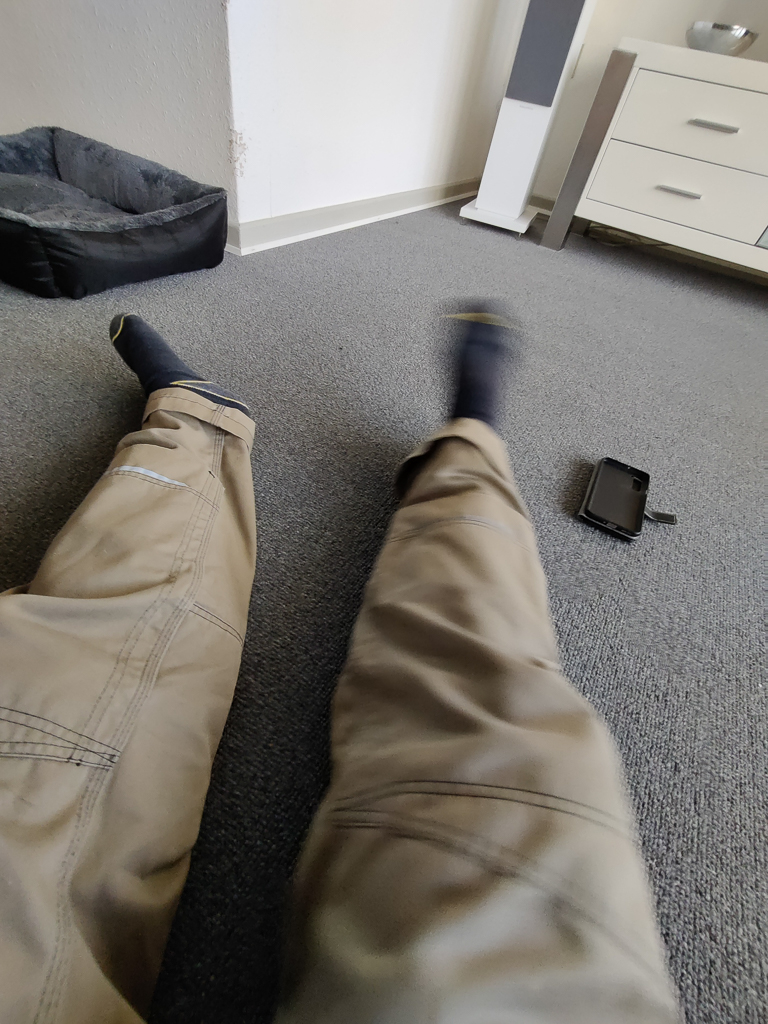Humanoid: (0, 277, 705, 1024)
